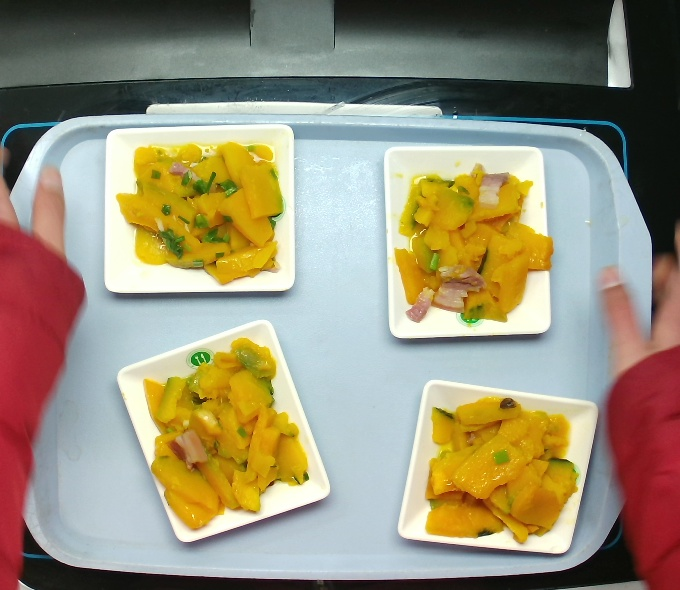wcq-NanGuaChaoLaRou: (141, 334, 309, 532), (391, 160, 554, 327), (116, 139, 284, 283), (421, 394, 579, 544)
